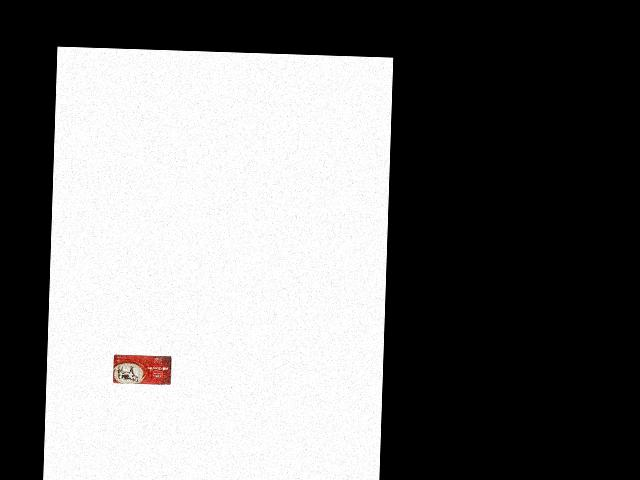chocolate: (113, 352, 173, 384)
